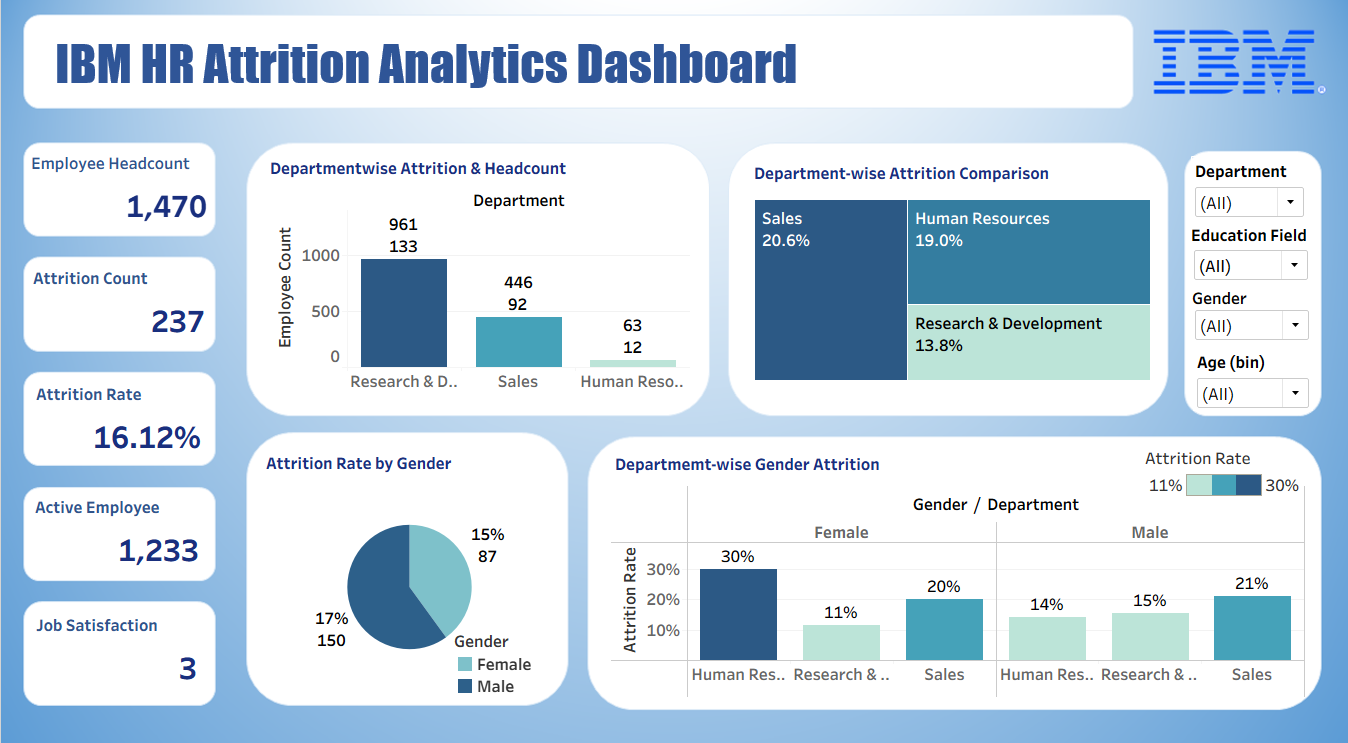

What the dashboard file says about the page in this screenshot:
{"tool":"tableau","page":{"name":"Dashboard 1","canvas":[1000,1000],"units":"permille","ordinal":0},"visuals":[{"type":"image","param":"Image/Screenshot 2026-02-03 143004.png","box":[21.5,25.4,610.4,113.8]},{"type":"worksheet","title":"KPI-Total Employee Count","mark":"Automatic","box":[19.3,198.1,136.3,109.8]},{"type":"worksheet","title":"(EDA) Attrition Count - Department","mark":"Automatic","rows":["EmployeeCount"],"cols":["Department"],"box":[196.3,204.8,314.1,340]},{"type":"filter","title":"(EDA) Attrition Count - Department","param":"[federated.1w4c5qy0q8kixw11kbcbs1l2wusw].[none:Department:nk]","box":[881.5,208.8,86.7,85.7]},{"type":"worksheet","title":"(EDA)-Attritation Rate-Department","mark":"Automatic","box":[554.8,211.5,299.3,303.9]},{"type":"filter","title":"KPI-Total Employee Count","param":"[federated.1w4c5qy0q8kixw11kbcbs1l2wusw].[none:EducationField:nk]","box":[881.5,299.9,88.9,80.3]},{"type":"worksheet","title":"KPI-Attrition Count","mark":"Automatic","box":[20.7,352.1,133.3,105.8]},{"type":"filter","title":"(EDA)-Attrition Rate- Overall (Gender)","param":"[federated.1w4c5qy0q8kixw11kbcbs1l2wusw].[none:Gender:nk]","box":[882.2,384.2,88.9,71]},{"type":"filter","title":"(EDA) Attrition Count - Department","param":"[federated.1w4c5qy0q8kixw11kbcbs1l2wusw].[none:Age (bin):ok]","box":[883,464.5,88.9,85.7]},{"type":"worksheet","title":"KPI-Attrition Rate","mark":"Automatic","box":[23,507.4,128.2,104.4]},{"type":"legend","title":"EDA-(Attrition-Gender/Department)","param":"[federated.1w4c5qy0q8kixw11kbcbs1l2wusw].[usr:Calculation_2226270265544705:qk]","box":[847.4,598.4,117.8,85.7]},{"type":"worksheet","title":"(EDA)-Attrition Rate- Overall (Gender)","mark":"Pie","box":[193.3,599.7,218.5,322.6]},{"type":"worksheet","title":"EDA-(Attrition-Gender/Department)","mark":"Automatic","rows":["Calculation_2226270265544705"],"cols":["Gender","Department"],"box":[451.9,601.1,514.1,333.3]},{"type":"worksheet","title":"KPI-Active Employees","mark":"Automatic","box":[22.2,658.6,127.4,107.1]},{"type":"worksheet","title":"KPI- Average Job Satisfation","mark":"Automatic","box":[23,816.6,125.2,109.8]},{"type":"legend","title":"(EDA)-Attrition Rate- Overall (Gender)","param":"[federated.1w4c5qy0q8kixw11kbcbs1l2wusw].[none:Gender:nk]","box":[335.6,843.4,72.6,89.7]}]}

Visuals, with their boxes on the dashboard's canvas, which has no fixed pixel size, in thousandths of its width and height (x1, y1, x2, y2). These are canvas units, not pixel positions in the 1348x743 screenshot, which may show the page scaled, cropped or inside an application window:
image: bbox=(22, 25, 632, 139)
"KPI-Total Employee Count" worksheet: bbox=(19, 198, 156, 308)
"(EDA) Attrition Count - Department" worksheet: bbox=(196, 205, 510, 545)
"(EDA) Attrition Count - Department" filter: bbox=(882, 209, 968, 294)
"(EDA)-Attritation Rate-Department" worksheet: bbox=(555, 212, 854, 515)
"KPI-Total Employee Count" filter: bbox=(882, 300, 970, 380)
"KPI-Attrition Count" worksheet: bbox=(21, 352, 154, 458)
"(EDA)-Attrition Rate- Overall (Gender)" filter: bbox=(882, 384, 971, 455)
"(EDA) Attrition Count - Department" filter: bbox=(883, 464, 972, 550)
"KPI-Attrition Rate" worksheet: bbox=(23, 507, 151, 612)
"EDA-(Attrition-Gender/Department)" legend: bbox=(847, 598, 965, 684)
"(EDA)-Attrition Rate- Overall (Gender)" worksheet (Pie marks): bbox=(193, 600, 412, 922)
"EDA-(Attrition-Gender/Department)" worksheet: bbox=(452, 601, 966, 934)
"KPI-Active Employees" worksheet: bbox=(22, 659, 150, 766)
"KPI- Average Job Satisfation" worksheet: bbox=(23, 817, 148, 926)
"(EDA)-Attrition Rate- Overall (Gender)" legend: bbox=(336, 843, 408, 933)
